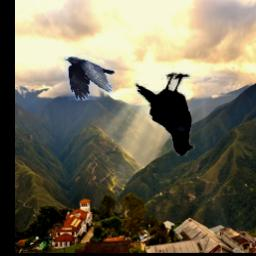Crow: (133, 72, 195, 156), (65, 57, 116, 101)
